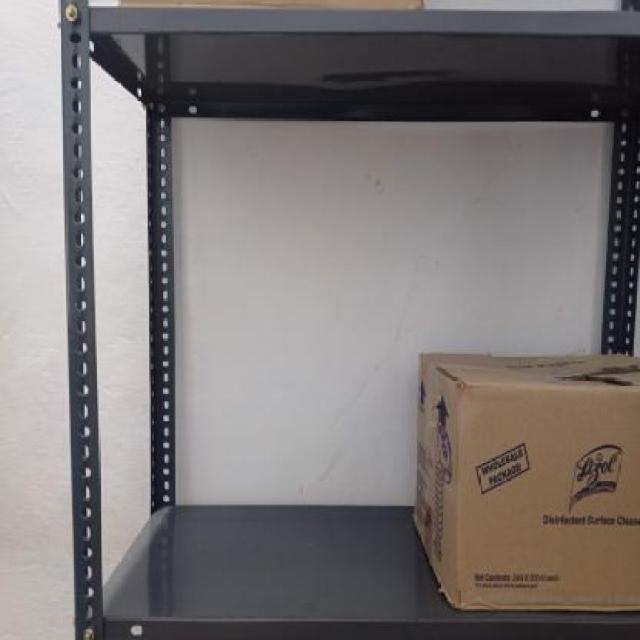box: (451, 378, 640, 607)
